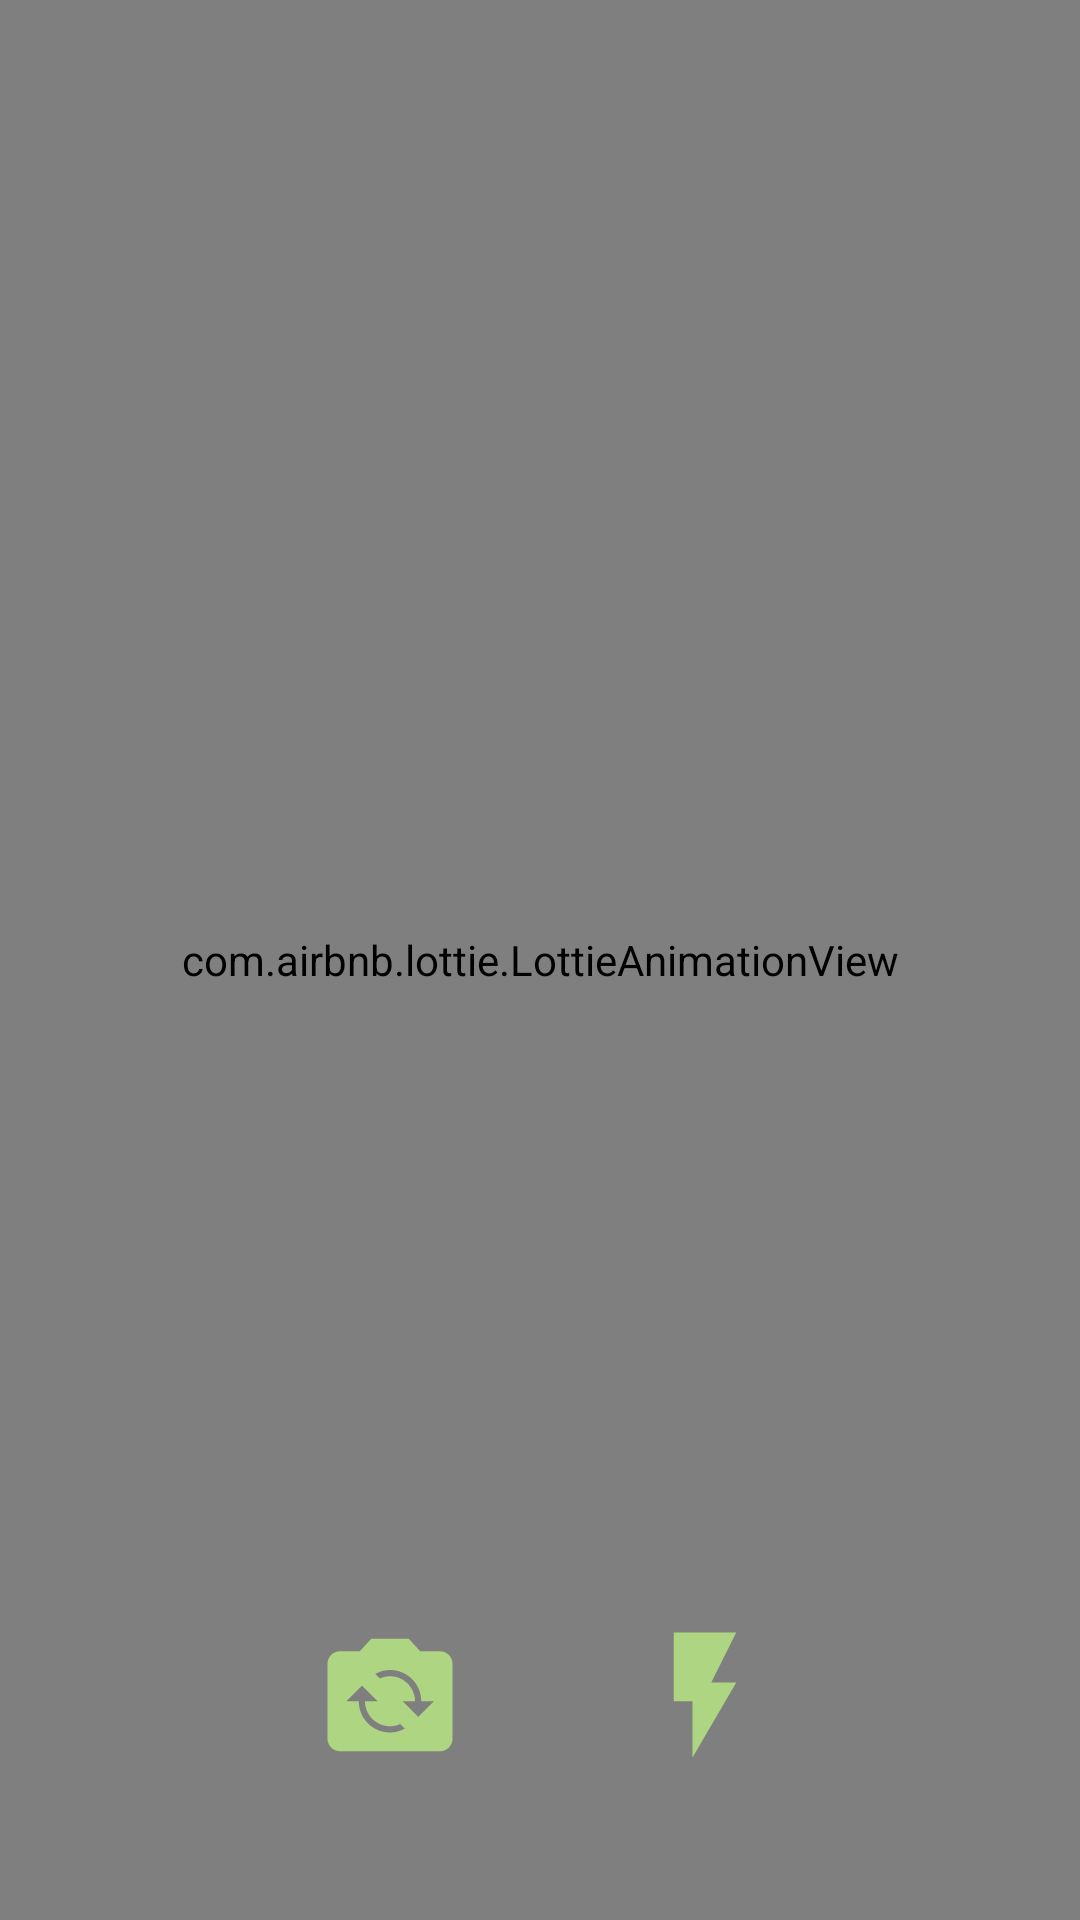

Icons on this 1080 × 1920 Android screen, each with the point to tap as [x,y]:
flash on: [705,1694]
flip camera: [390,1695]
